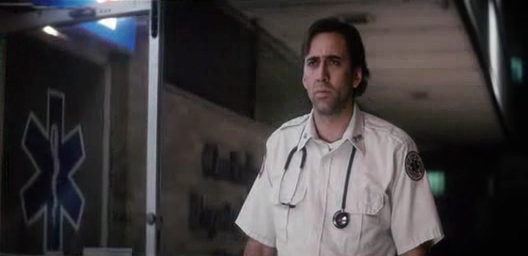face: (304, 47, 346, 113)
ms: (1, 1, 528, 256)
person: (234, 17, 444, 256)
